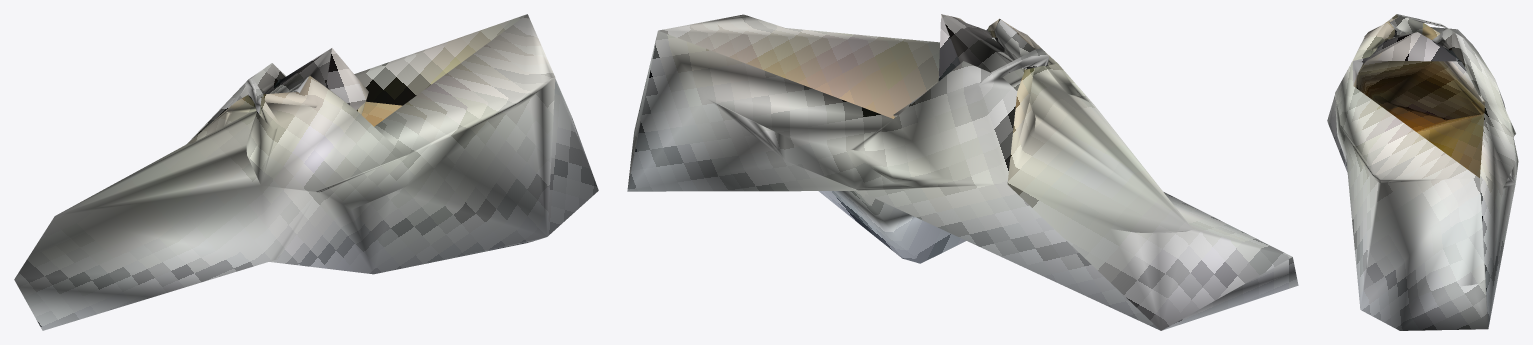
The model's file is Womens_Sequin_Bahama_in_White_Sequin_V9K1hf24Oxe-low.glb.
3 views of the same model, side by side, from view 1: azimuth 30°, elevation 25°; view 2: azimuth 150°, elevation 25°; view 3: azimuth 270°, elevation 25° (orthographic). The views are drawn at different scales.
Visible parts, largest first — view 1: Womens_Sequin_Bahama_in_White_Sequin_V9K1hf24Oxe; view 2: Womens_Sequin_Bahama_in_White_Sequin_V9K1hf24Oxe; view 3: Womens_Sequin_Bahama_in_White_Sequin_V9K1hf24Oxe.
Boxes of the visible parts, <box> form: Womens_Sequin_Bahama_in_White_Sequin_V9K1hf24Oxe: <box>14,14,598,330</box>; Womens_Sequin_Bahama_in_White_Sequin_V9K1hf24Oxe: <box>627,14,1298,330</box>; Womens_Sequin_Bahama_in_White_Sequin_V9K1hf24Oxe: <box>1327,14,1518,330</box>.
Size of the model in its own units: 0.2456 by 0.0856 by 0.0756.
1 material, 1 textured.
